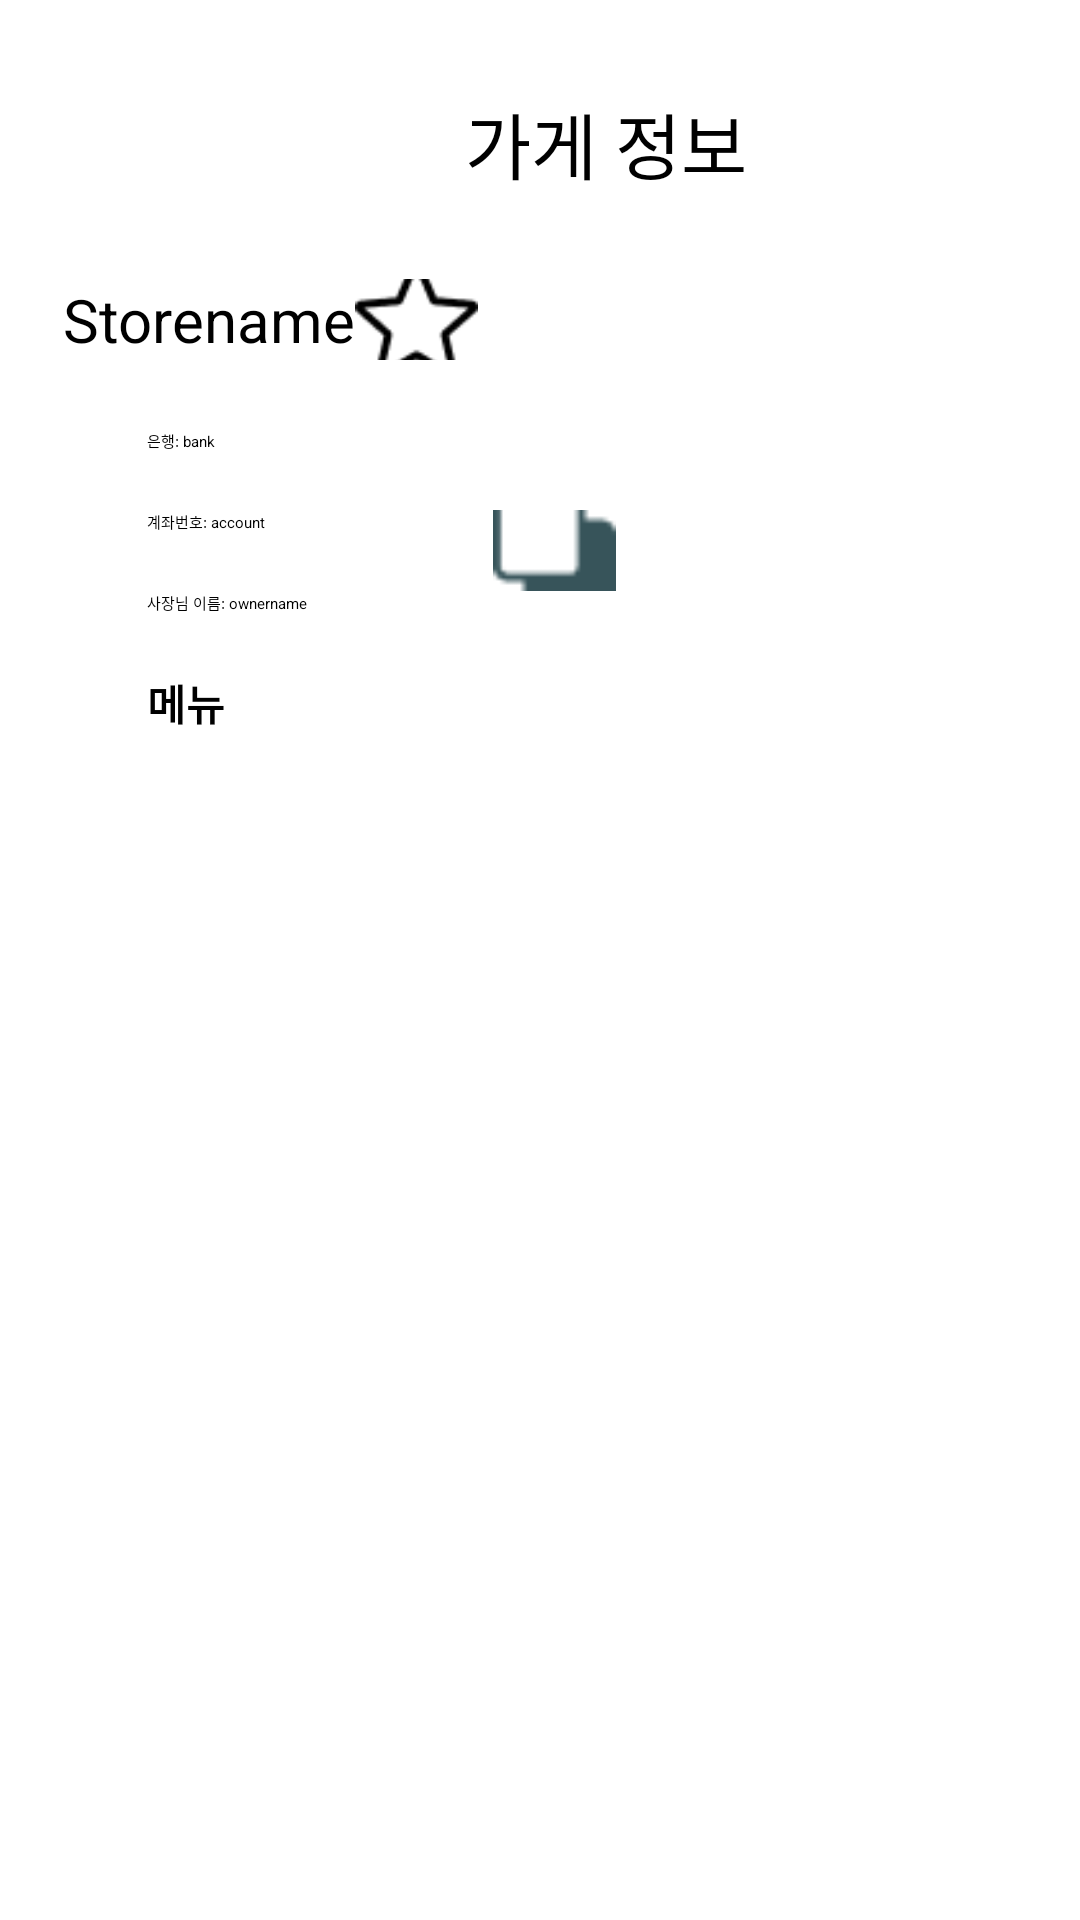

Named icons in this screenshot (1080*1920) and their bounding boxes, box=[x1, y1, x2, y2]:
copyaccount: box=[493, 510, 616, 591]
star: box=[355, 279, 478, 360]
